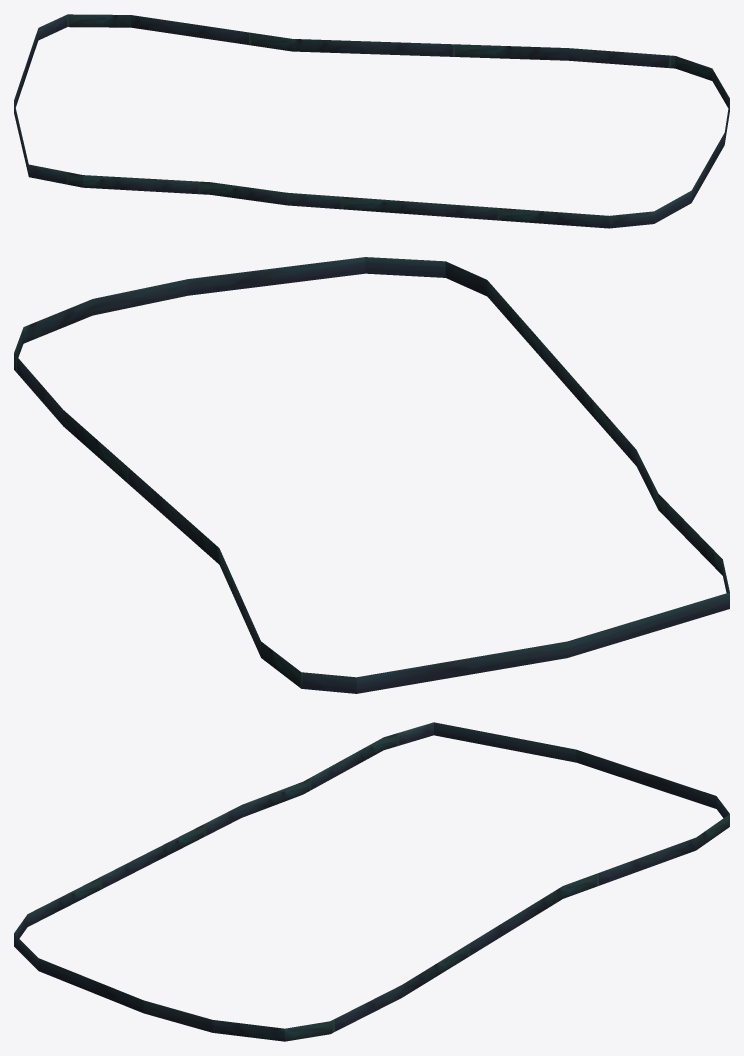
Rendered from CZPlat_7_Lat.gltf.
3 renders of one model, top to bottom at view 1: azimuth 30°, elevation 25°; view 2: azimuth 150°, elevation 25°; view 3: azimuth 270°, elevation 25°, orthographic. The views are drawn at different scales.
Parts seen in each view (by area): view 1: CZPlat_7_Lat; view 2: CZPlat_7_Lat; view 3: CZPlat_7_Lat.
Part boxes in pixels (x1,y1,x2,y2): CZPlat_7_Lat: (14, 14, 729, 228); CZPlat_7_Lat: (14, 257, 729, 693); CZPlat_7_Lat: (14, 722, 729, 1041).
Bounding box in the file's own units: 45.38 × 0.9013 × 44.83.
Materials: 1 (1 with a texture image).
